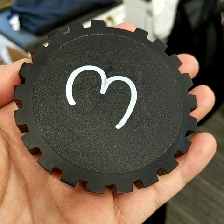gear: (11, 18, 199, 196)
missing: (89, 18, 150, 41)
